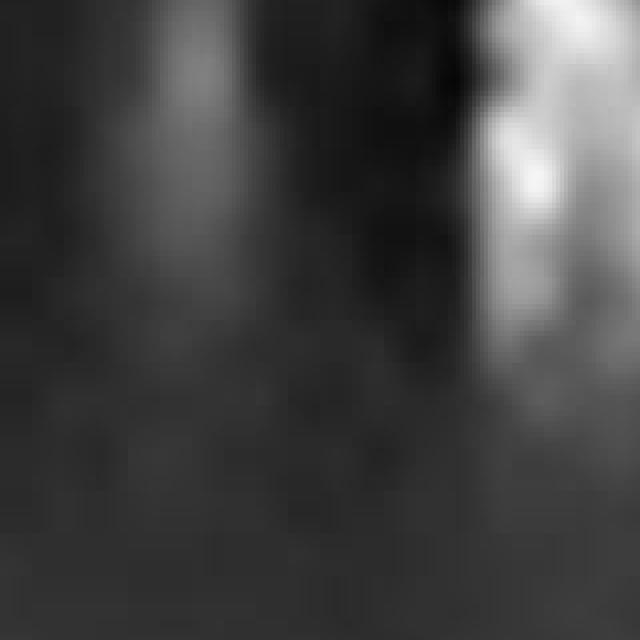person: (469, 1, 640, 396), (81, 1, 297, 278)
